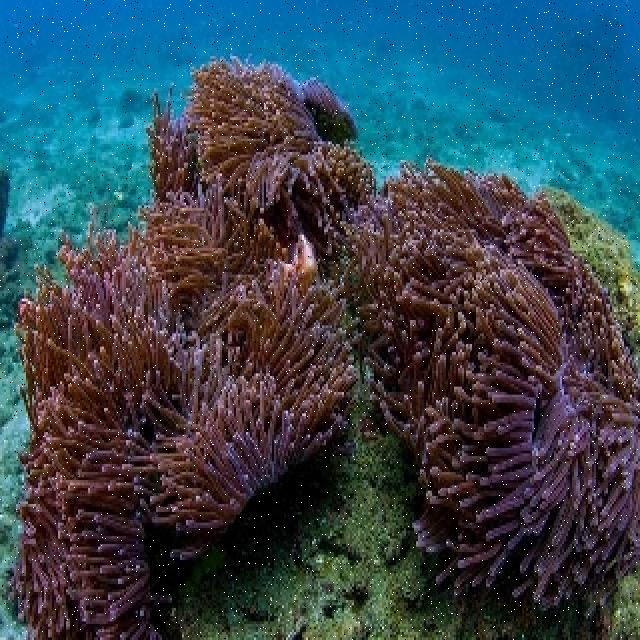reefs: (13, 55, 638, 637)
